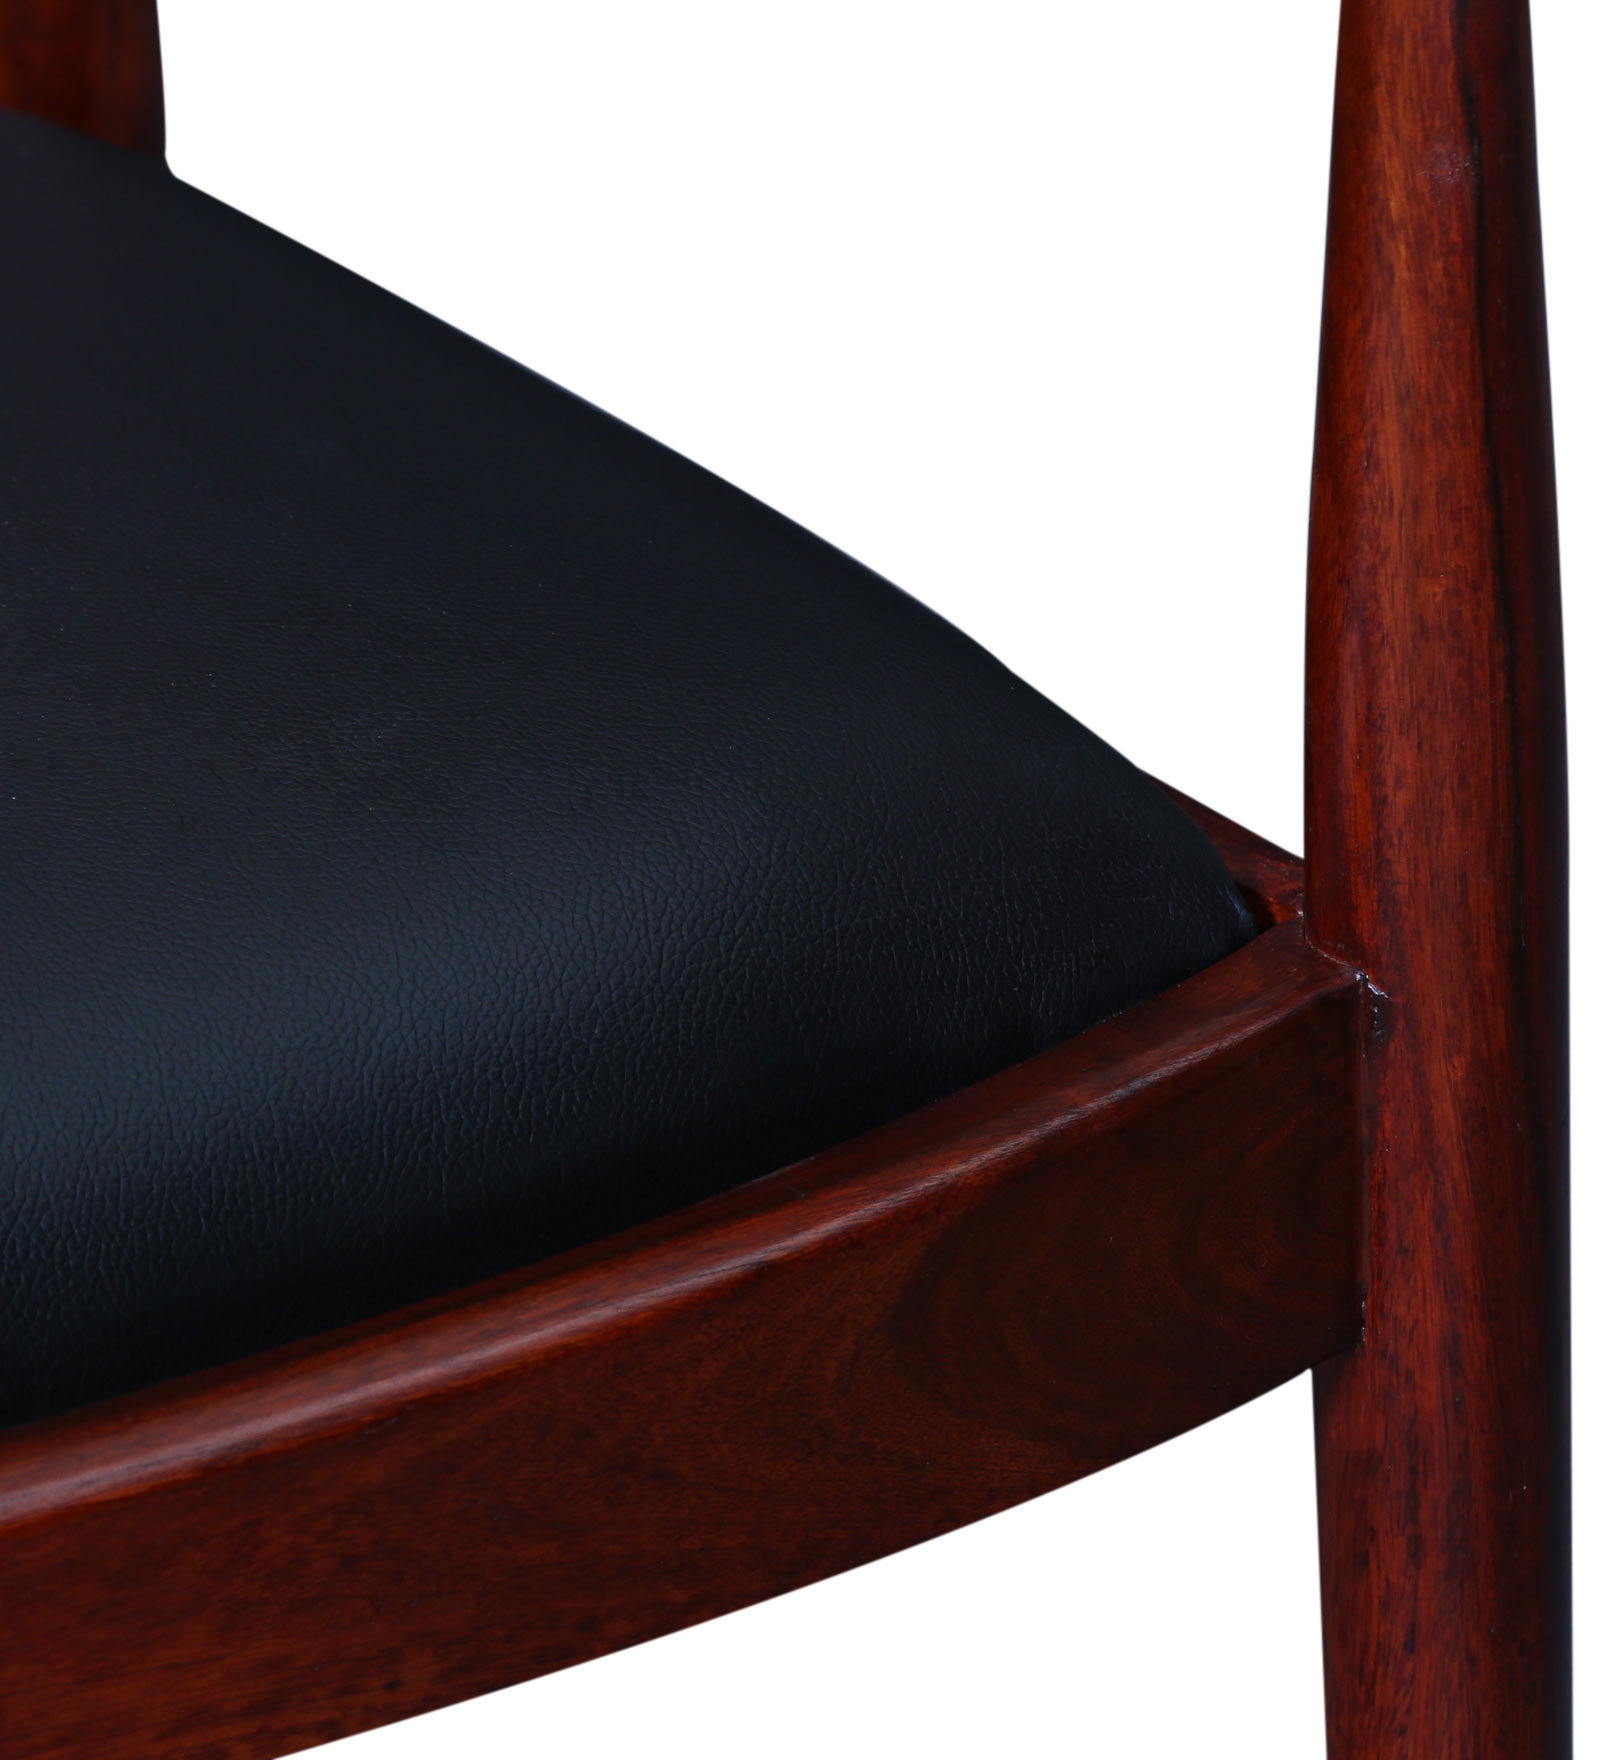Esvelt Arm Chair in Honey Oak Finish by Woodsworth: (2, 8, 1577, 1760)
